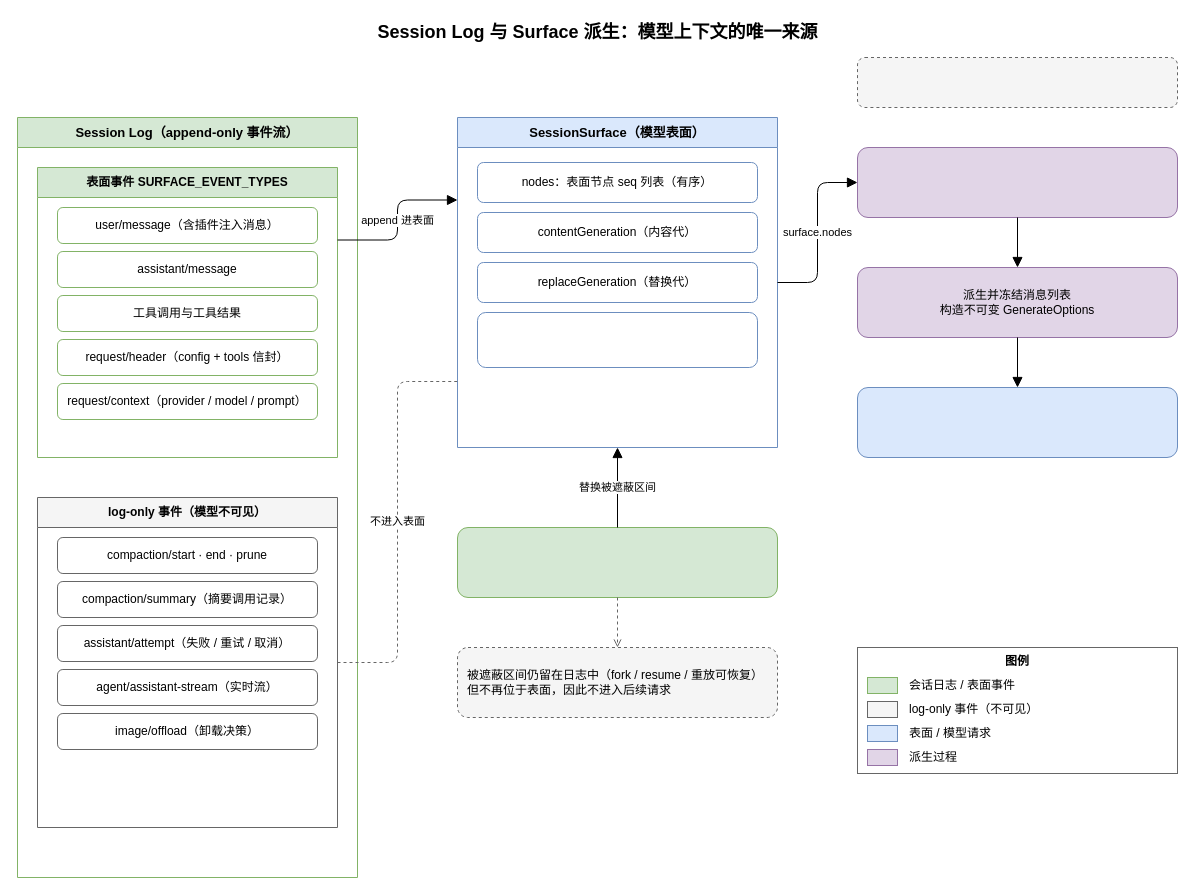
This 1195x895 diagram has some shape labels left out. Here are the shapes that lost their labels. From the top down, the centre of each, then its label:
point (1017, 82): 不变量：模型可见 ⟺ 已入日志 （model-visible ⟺ logged）
point (1017, 182): session.deriveMessages() 按 surface.nodes 增量派生
point (617, 340): surfaceOp: append | replace { startSeq, endSeq }
point (1017, 422): llm.stream() 模型看到的完整上下文
point (617, 562): 压缩摘要 user/message surfaceOp: replace [startSeq, endSeq]
